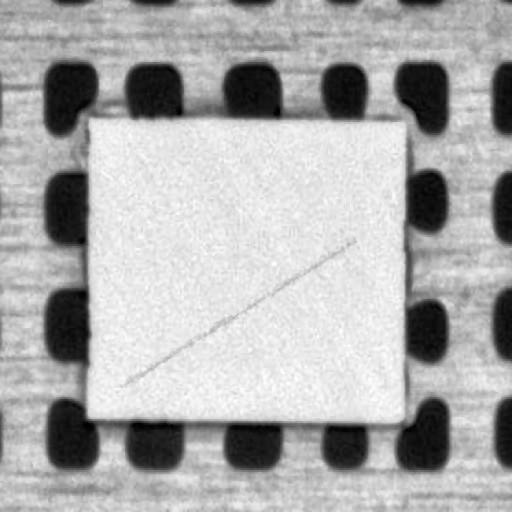DIE_CRACK: (159, 180, 470, 290)
